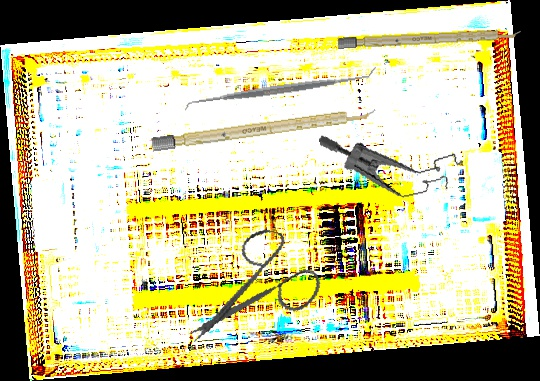Iris Scissors: (185, 216, 331, 369)
Scalpel Handle: (150, 106, 377, 152), (337, 28, 522, 49)
Spatula Surgical: (182, 64, 379, 114)
Speculum: (317, 106, 469, 216)
